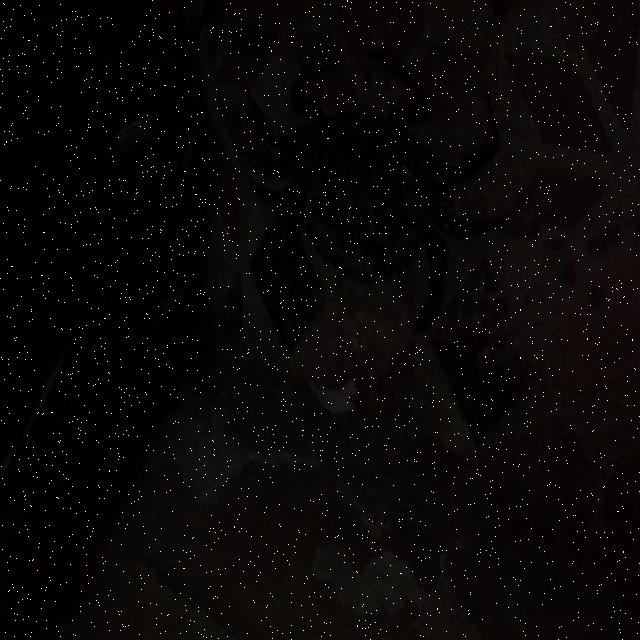European_Green_Crab: (230, 58, 485, 326)
